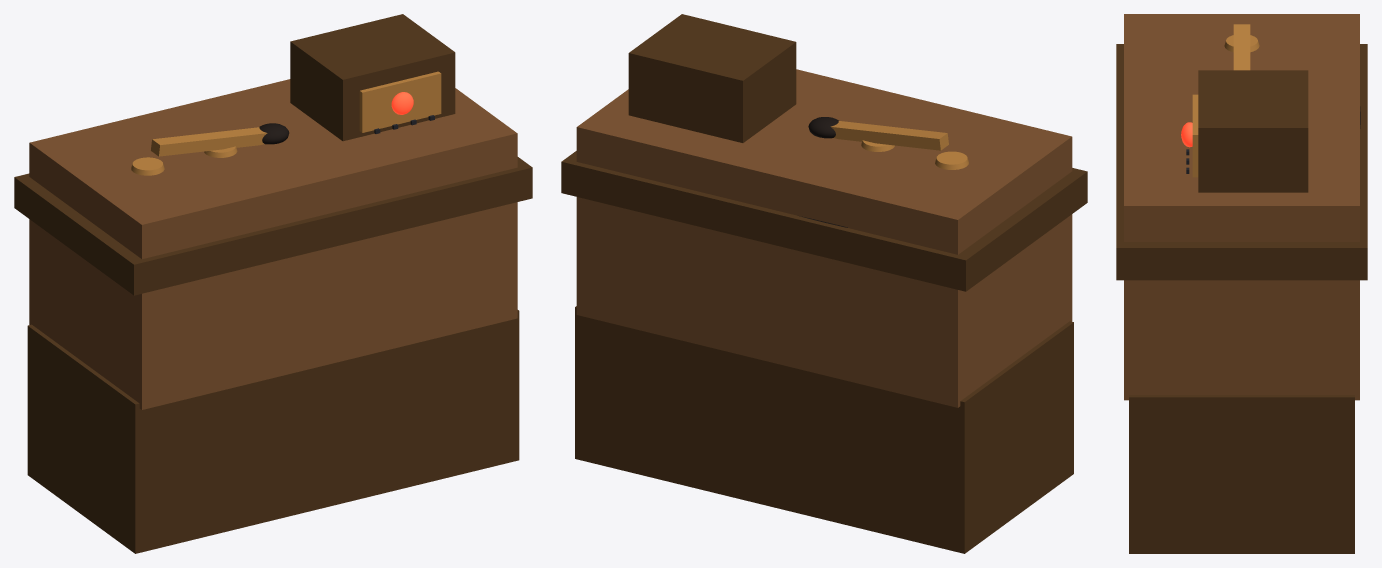
File: mia-telegraph.glb
The picture shows the model from 3 angles, left to right: view 1: azimuth 30°, elevation 25°; view 2: azimuth 150°, elevation 25°; view 3: azimuth 270°, elevation 25°; orthographic projection. The views are drawn at different scales.
Visible parts, largest first — view 1: Body_wood, Body_oak, Body_brass; view 2: Body_wood, Body_oak, Body_brass; view 3: Body_oak, Body_wood, Body_brass.
Boxes of the visible parts, x1,y1,x2,y2 form: Body_wood: [14, 14, 532, 553]; Body_oak: [29, 79, 517, 409]; Body_brass: [131, 71, 441, 175]; Body_wood: [561, 14, 1087, 553]; Body_oak: [576, 69, 1072, 407]; Body_brass: [830, 121, 968, 169]; Body_oak: [1124, 14, 1359, 400]; Body_wood: [1116, 44, 1367, 553]; Body_brass: [1192, 24, 1259, 177].
Size of the model in its own units: 1.23 by 1.15 by 0.639.
